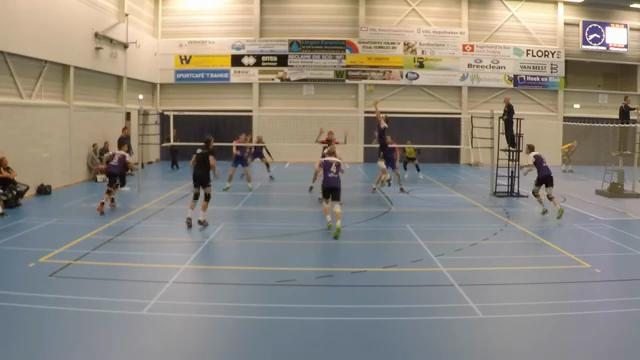Player: (524, 144, 563, 218), (186, 137, 217, 227), (315, 145, 343, 239), (97, 143, 131, 214), (372, 135, 404, 192), (223, 133, 252, 191), (250, 135, 273, 179), (403, 141, 423, 178), (315, 128, 339, 158), (245, 134, 252, 165)
Set: (366, 97, 395, 191)
ball: (365, 84, 376, 92)
